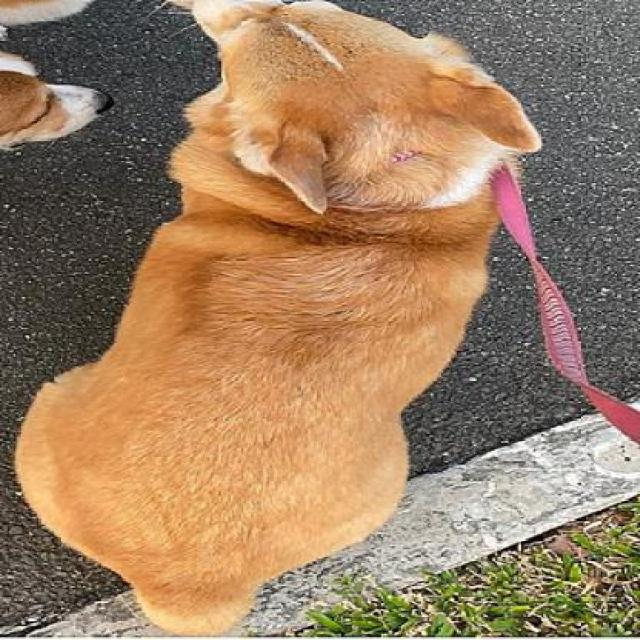Dog: (12, 0, 546, 638)
